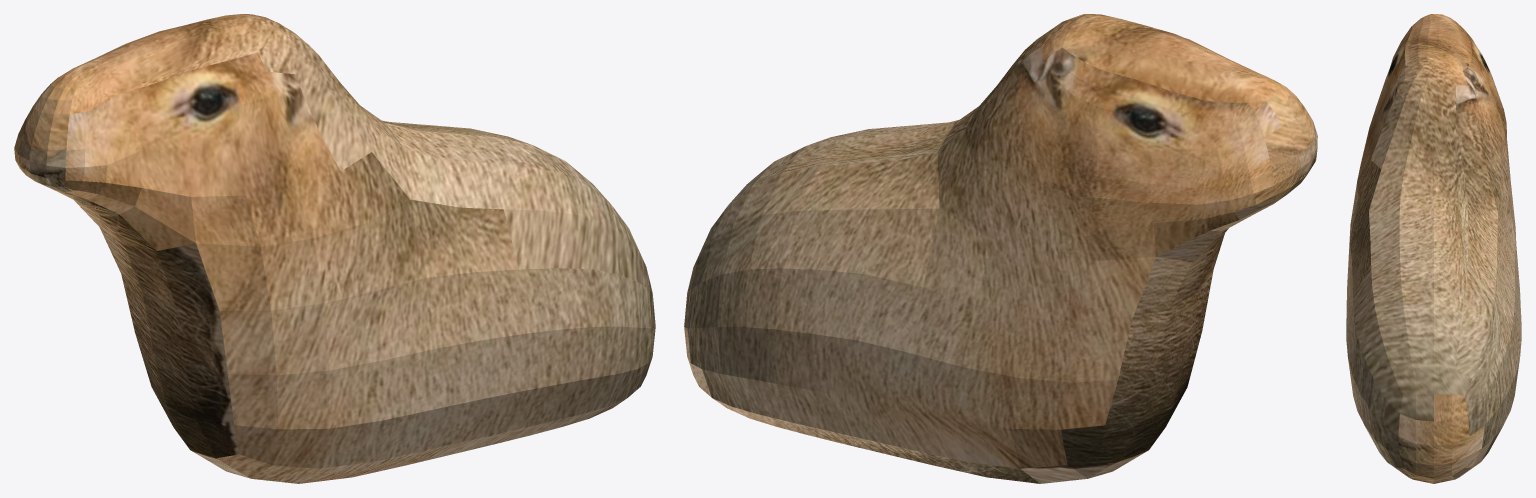
Rendered from capi.obj.
The picture shows the model from 3 angles, left to right: view 1: azimuth 30°, elevation 25°; view 2: azimuth 150°, elevation 25°; view 3: azimuth 270°, elevation 25°; orthographic projection. The views are drawn at different scales.
Visible parts, largest first — view 1: Cube; view 2: Cube; view 3: Cube.
Part boxes in pixels (left/top/right/bottom): Cube: left=14, top=14, right=655, bottom=483; Cube: left=684, top=14, right=1317, bottom=483; Cube: left=1346, top=14, right=1521, bottom=483.
Size of the model in its own units: 4.68 by 3.44 by 1.74.
1 material, 1 textured.
